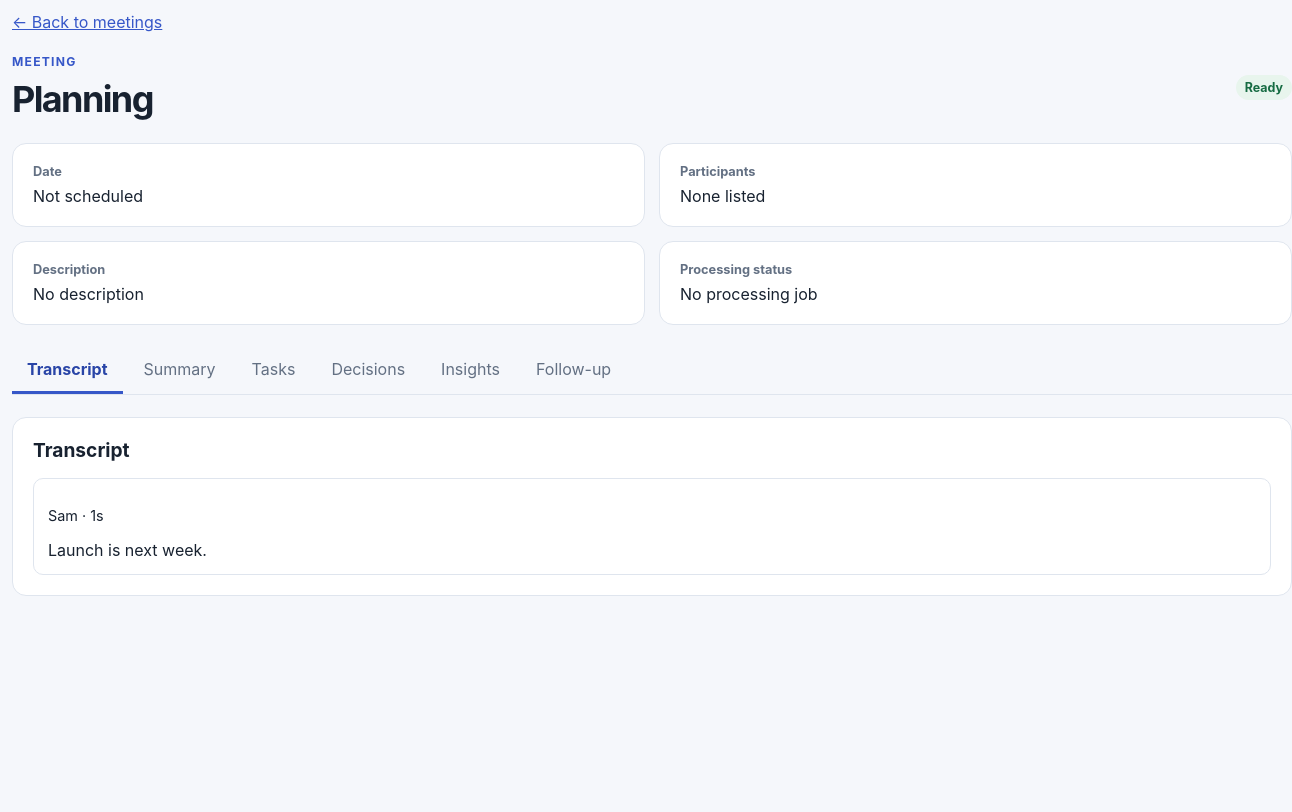
Test case: MeetingDetailsPage › shows a graceful empty state for a missing optional summary
Click the tab "Summary". click: (180, 370)
box: [129,347,231,394]
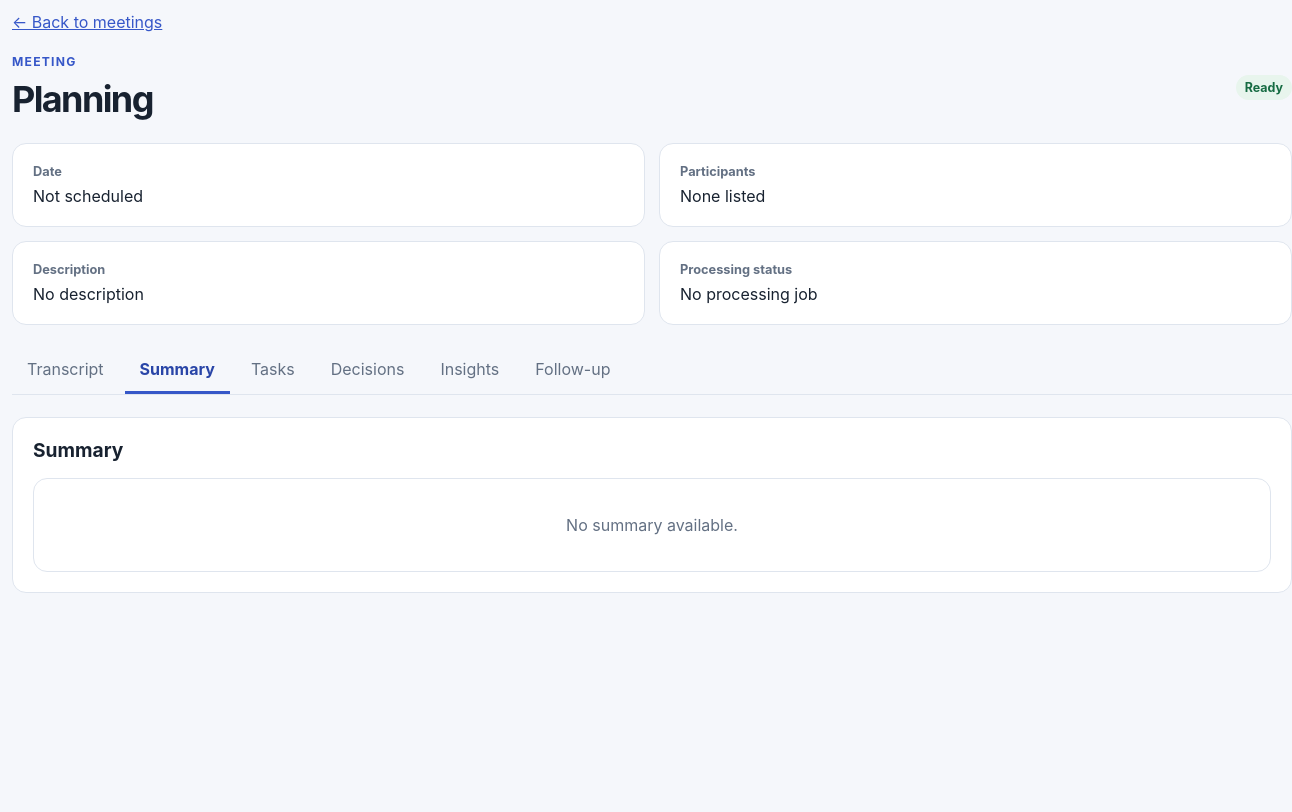
Check: the text "No summary available." is shown, box [33,478,1271,572]
